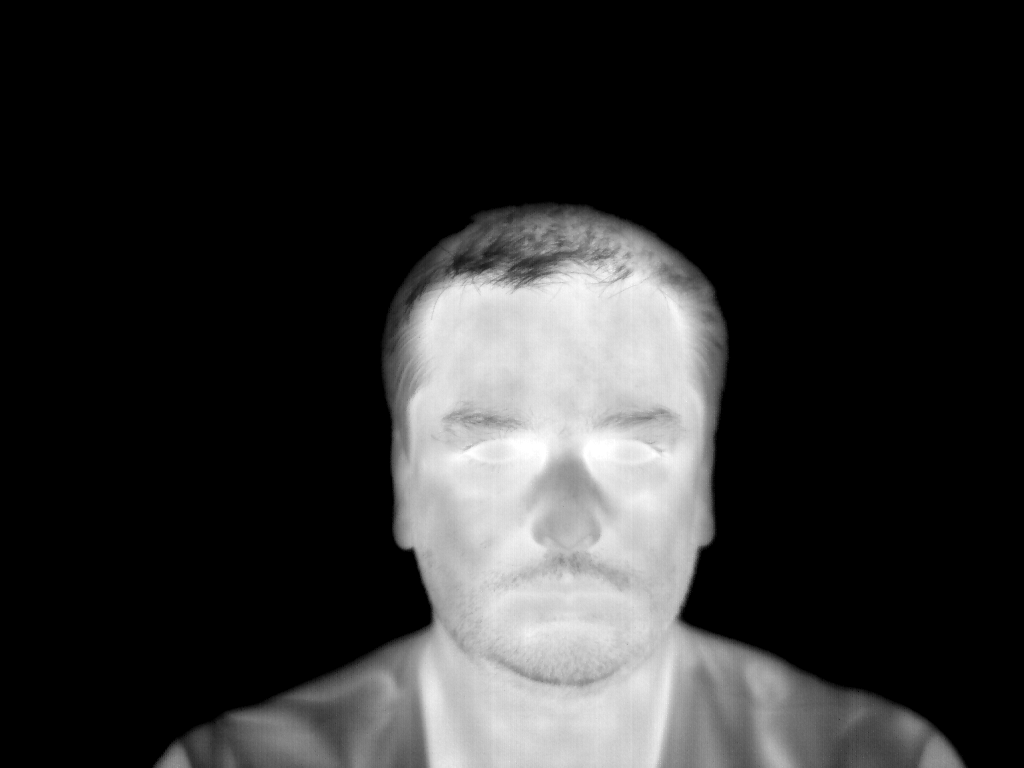face: (419, 298, 703, 682)
